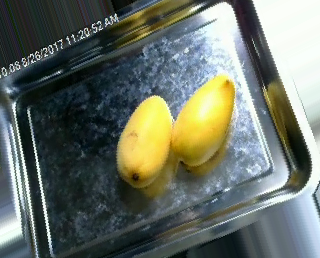Mango: (171, 70, 237, 168), (114, 92, 174, 187)
